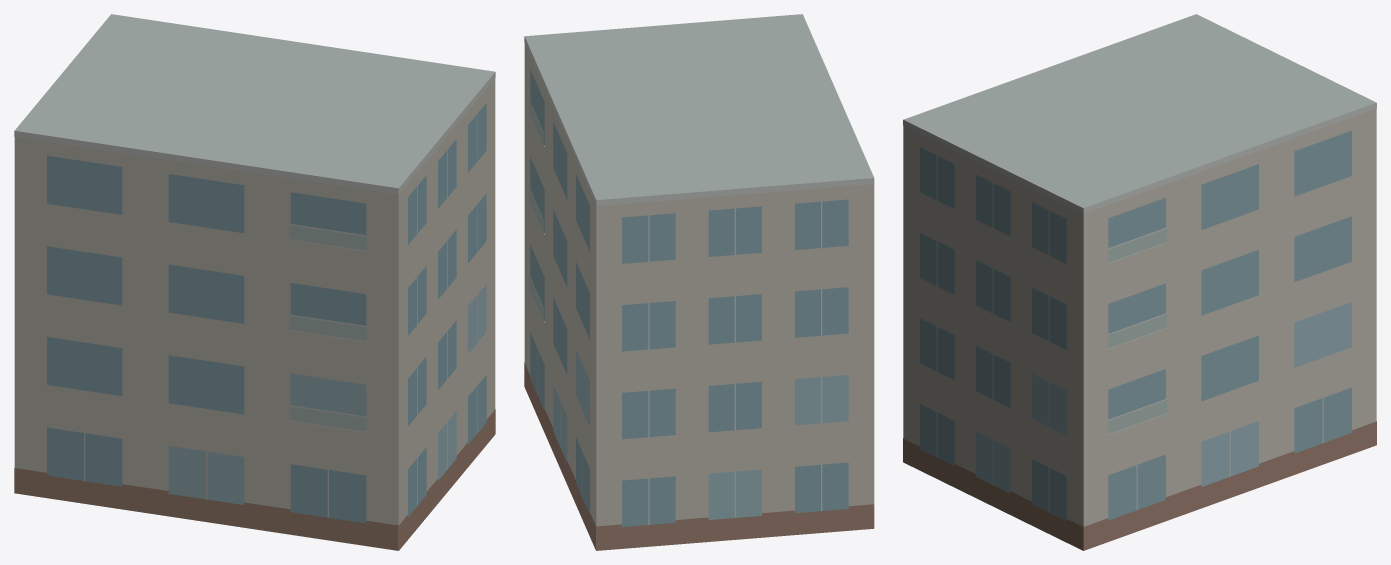
File: survey-upis-32658914.glb
The picture shows the model from 3 angles, left to right: view 1: azimuth 30°, elevation 25°; view 2: azimuth 150°, elevation 25°; view 3: azimuth 270°, elevation 25°; orthographic projection. The views are drawn at different scales.
Parts seen in each view (by area): view 1: survey-upis-32658914.tmp; view 2: survey-upis-32658914.tmp; view 3: survey-upis-32658914.tmp.
Part boxes in pixels (box(x1,y1,x2,y2)): survey-upis-32658914.tmp: box(14, 14, 495, 550); survey-upis-32658914.tmp: box(524, 14, 874, 550); survey-upis-32658914.tmp: box(903, 14, 1376, 550).
Bounding box in the file's own units: 17.21 × 14.15 × 17.72.
